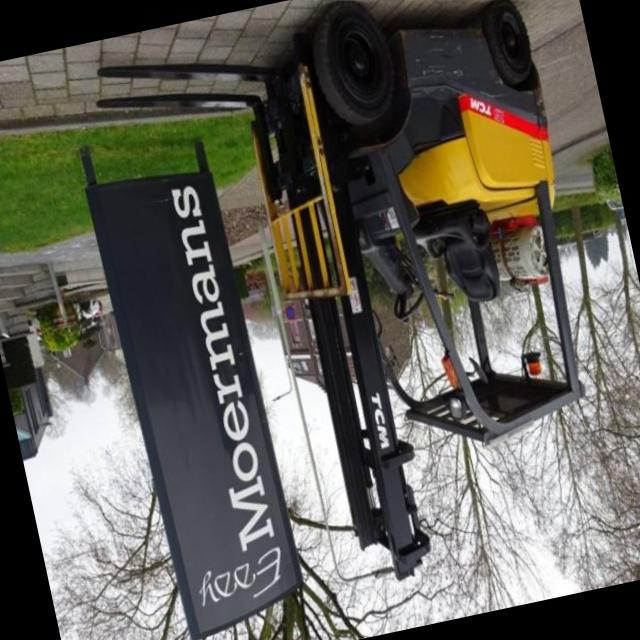forklift: (193, 0, 640, 625)
